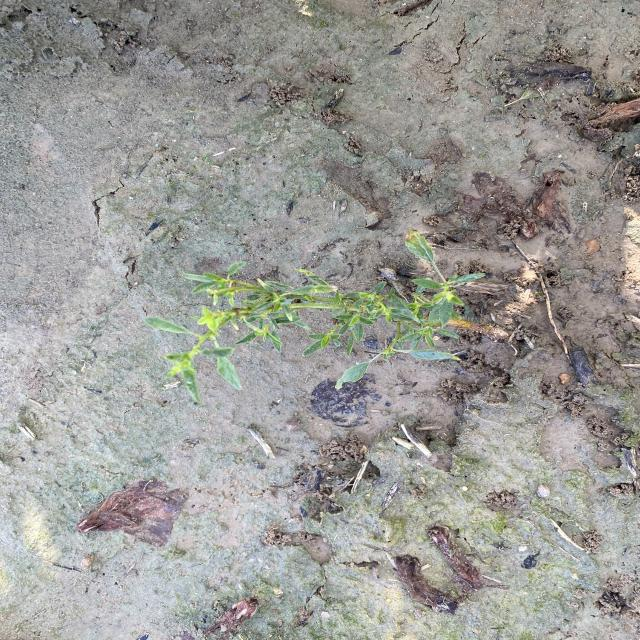Waterhemp: (142, 232, 489, 408)
